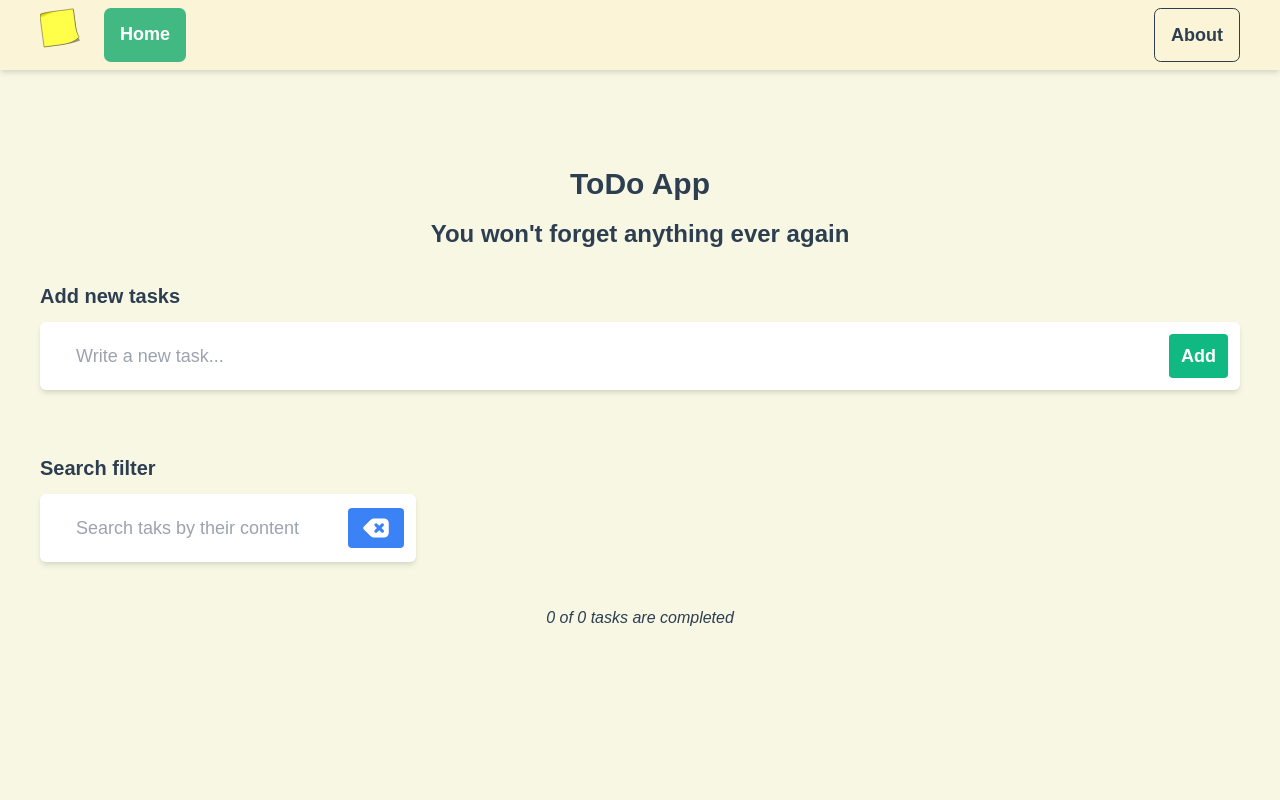
it: task list › can create new task
Type "My first task" into the field with id "addButton". click: (603, 356)
box: [52,326,1153,386]
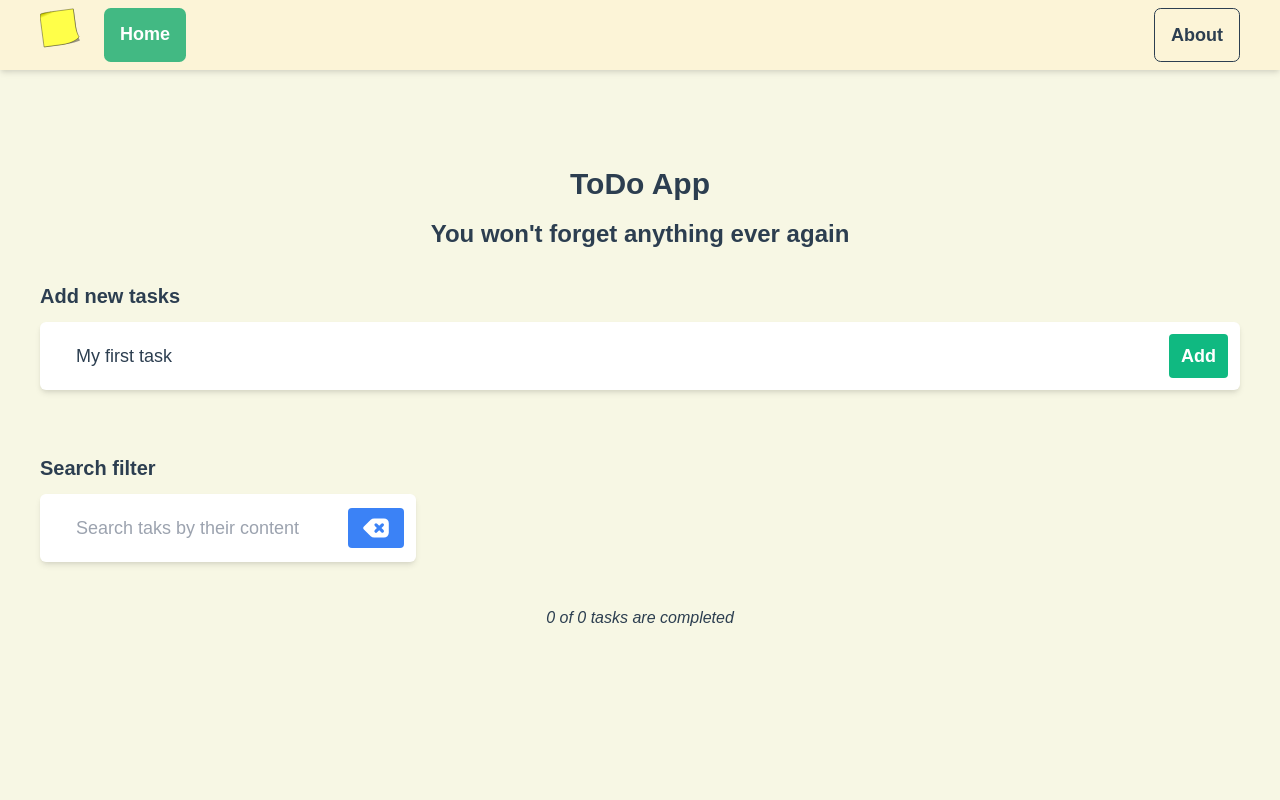
Click the button "Add". click: (1199, 356)
box: [1169,334,1228,378]
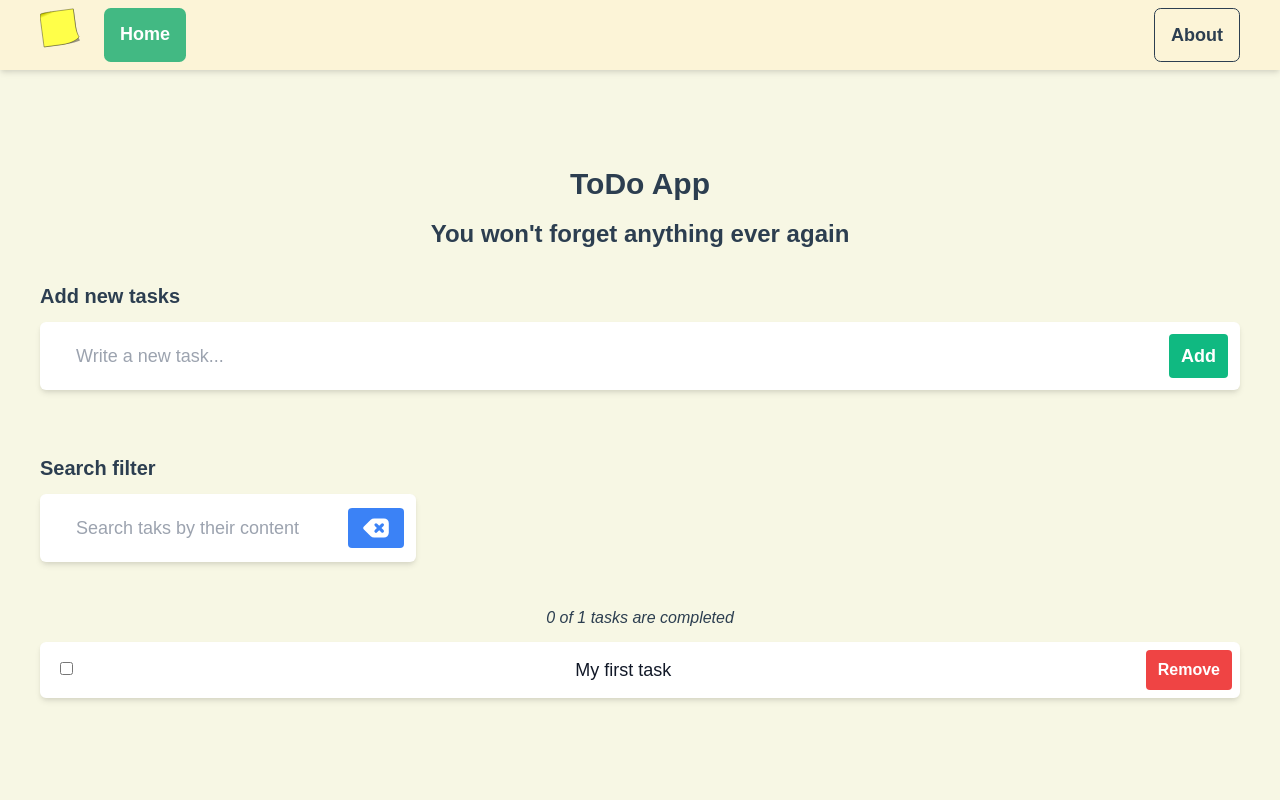
Expected: the text "0 of 1 tasks are completed" is shown, [546,609,734,626]
Expected: the heading "My first task" is shown, [575,660,671,680]
